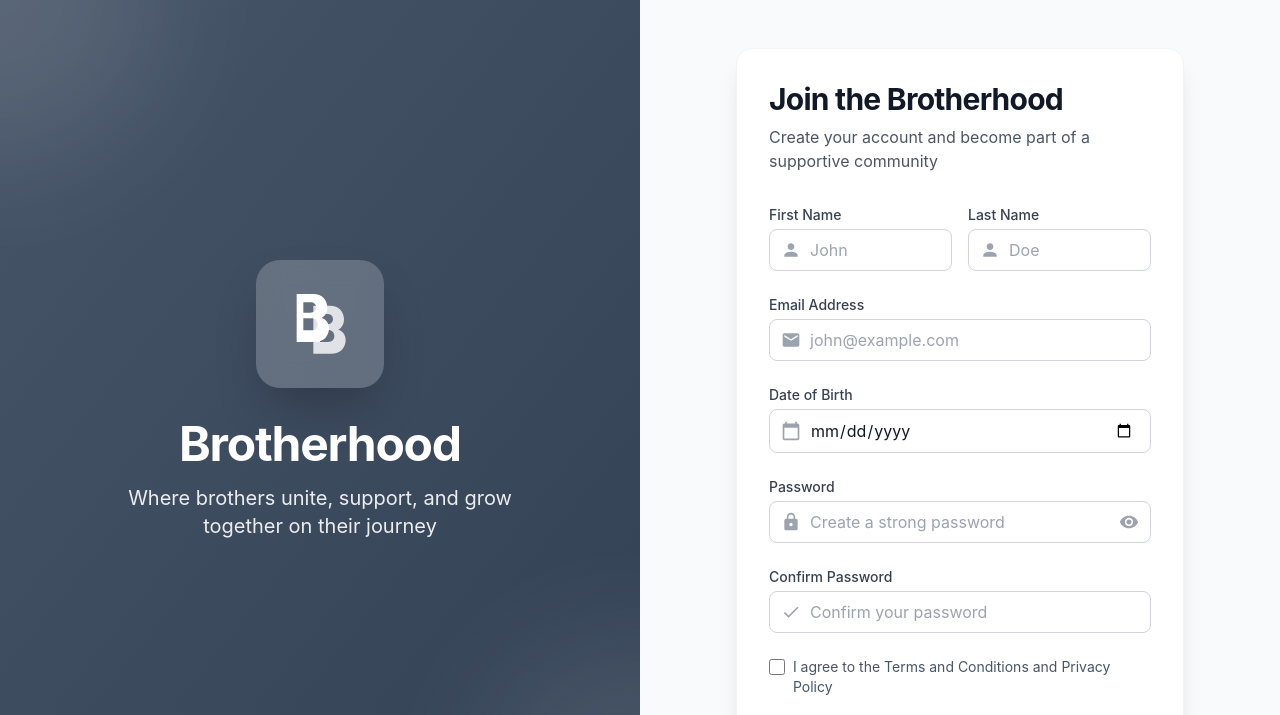
it: Register Page › Form Validation › should show error for password mismatch
Type "StrongP@ss123" into the password field labelled "Password". click: (960, 522)
box: [769,501,1151,543]
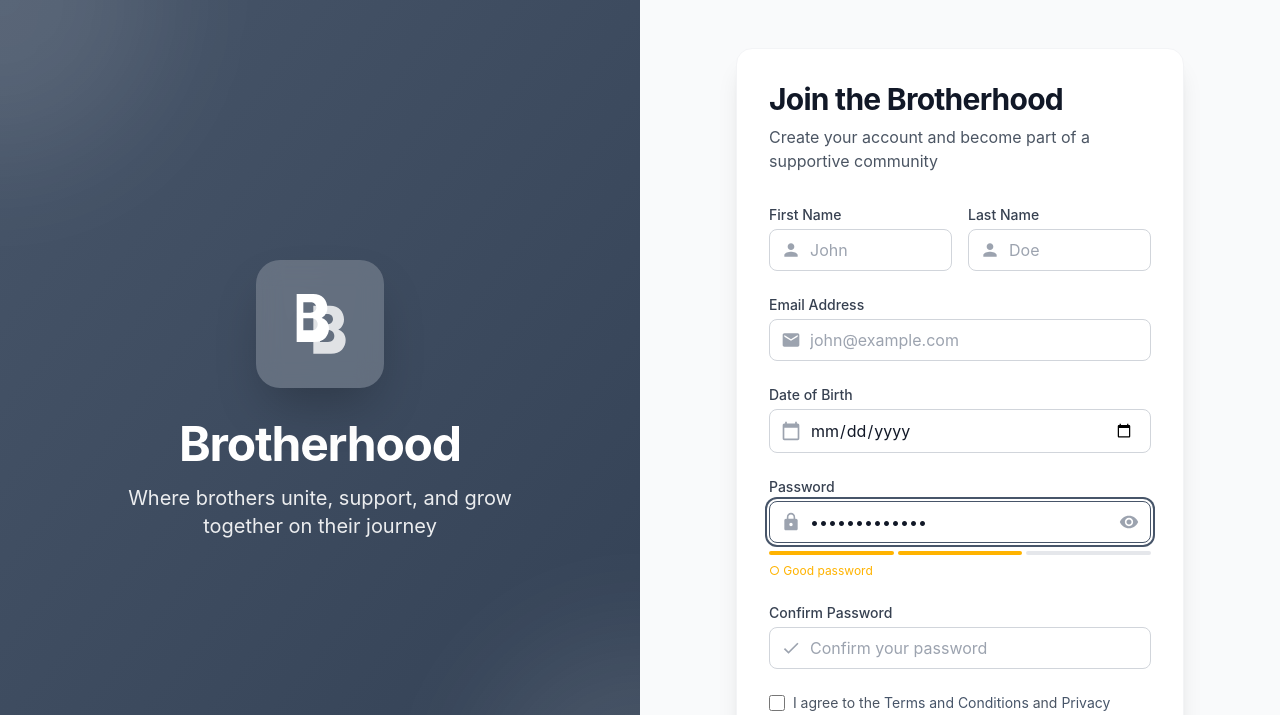
Type "DifferentP@ss123" into the password field labelled "Confirm Password". click: (960, 648)
box: [769,627,1151,669]
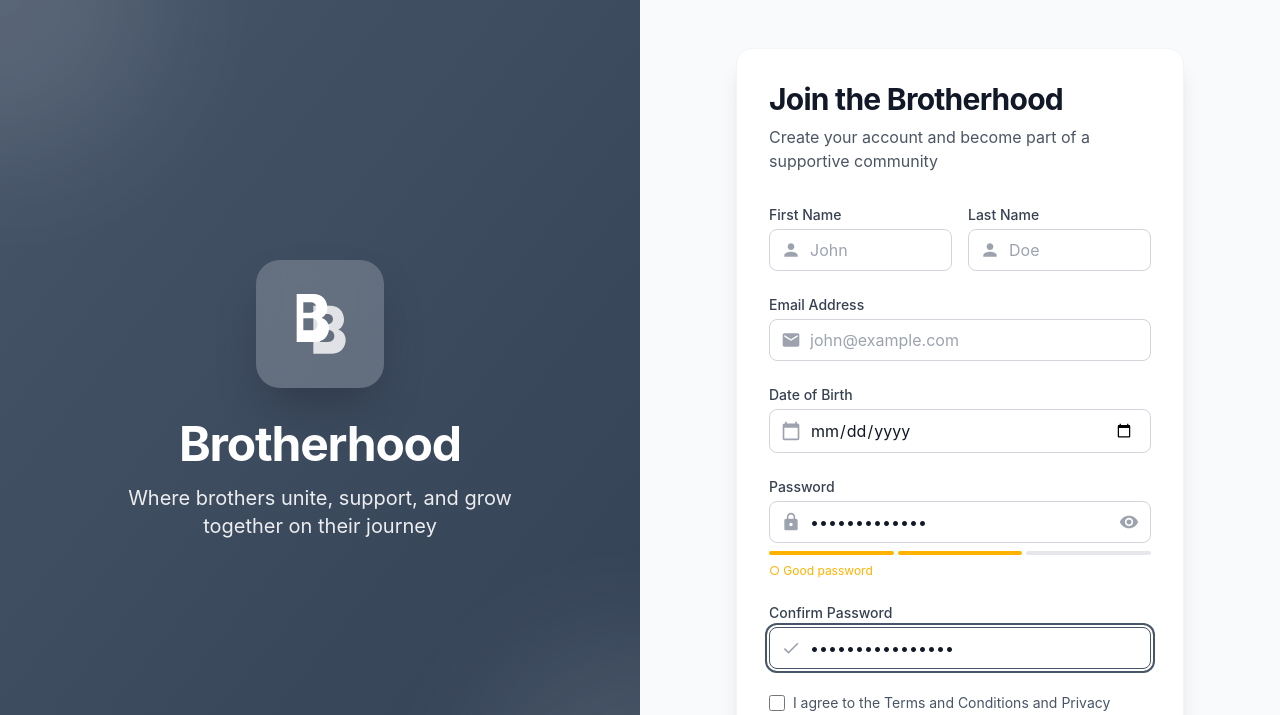
Press Tab
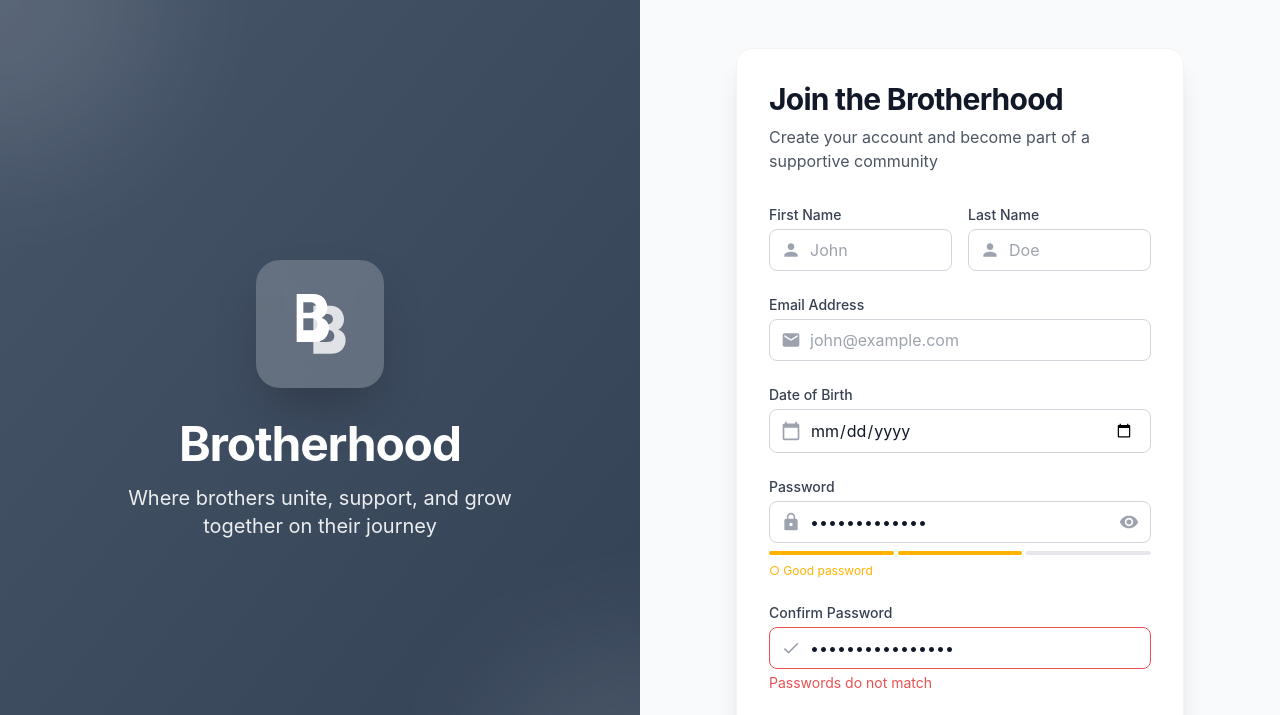
Now the text "Passwords do not match" is shown, box [769,674,932,691]
